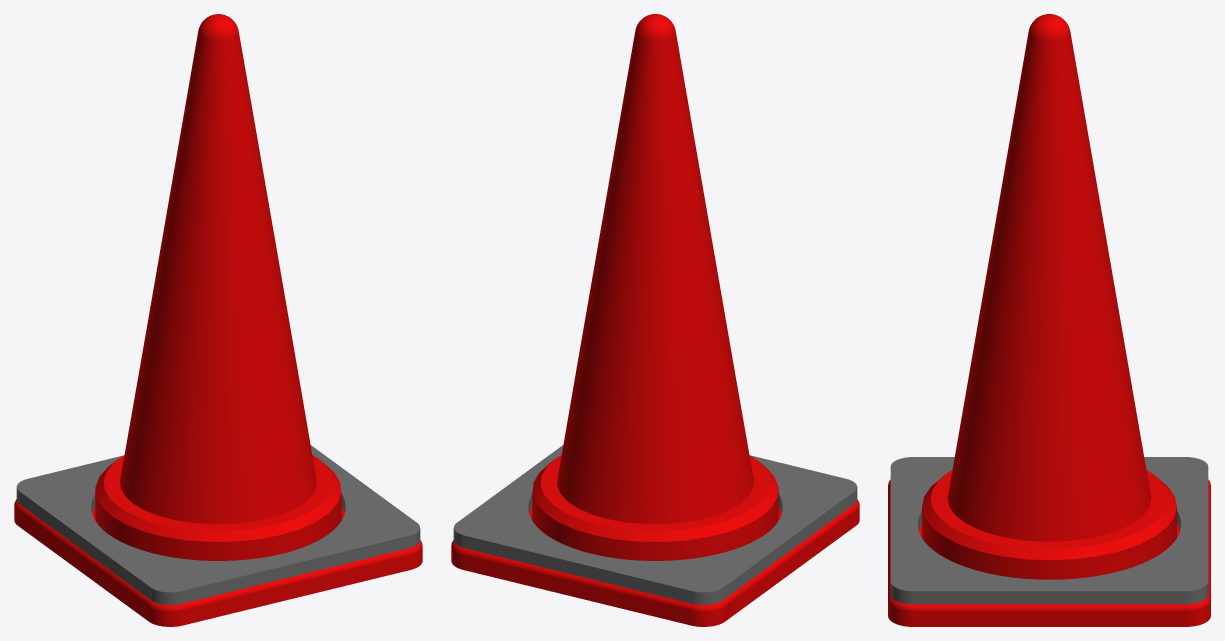
The model's file is 694_三角コーンコーンベッド付き.glb.
3 renders of one model, left to right at view 1: azimuth 30°, elevation 25°; view 2: azimuth 150°, elevation 25°; view 3: azimuth 270°, elevation 25°, orthographic. The views are drawn at different scales.
Visible parts, largest first — view 1: pylon, bed; view 2: pylon, bed; view 3: pylon, bed.
Part boxes in pixels (box(x1,y1,x2,y2)): pylon: box(14, 14, 422, 626); bed: box(16, 445, 420, 604); pylon: box(451, 14, 859, 626); bed: box(453, 445, 857, 604); pylon: box(888, 14, 1210, 626); bed: box(890, 457, 1208, 604).
Size of the model in its own units: 0.38 by 0.705 by 0.38.
